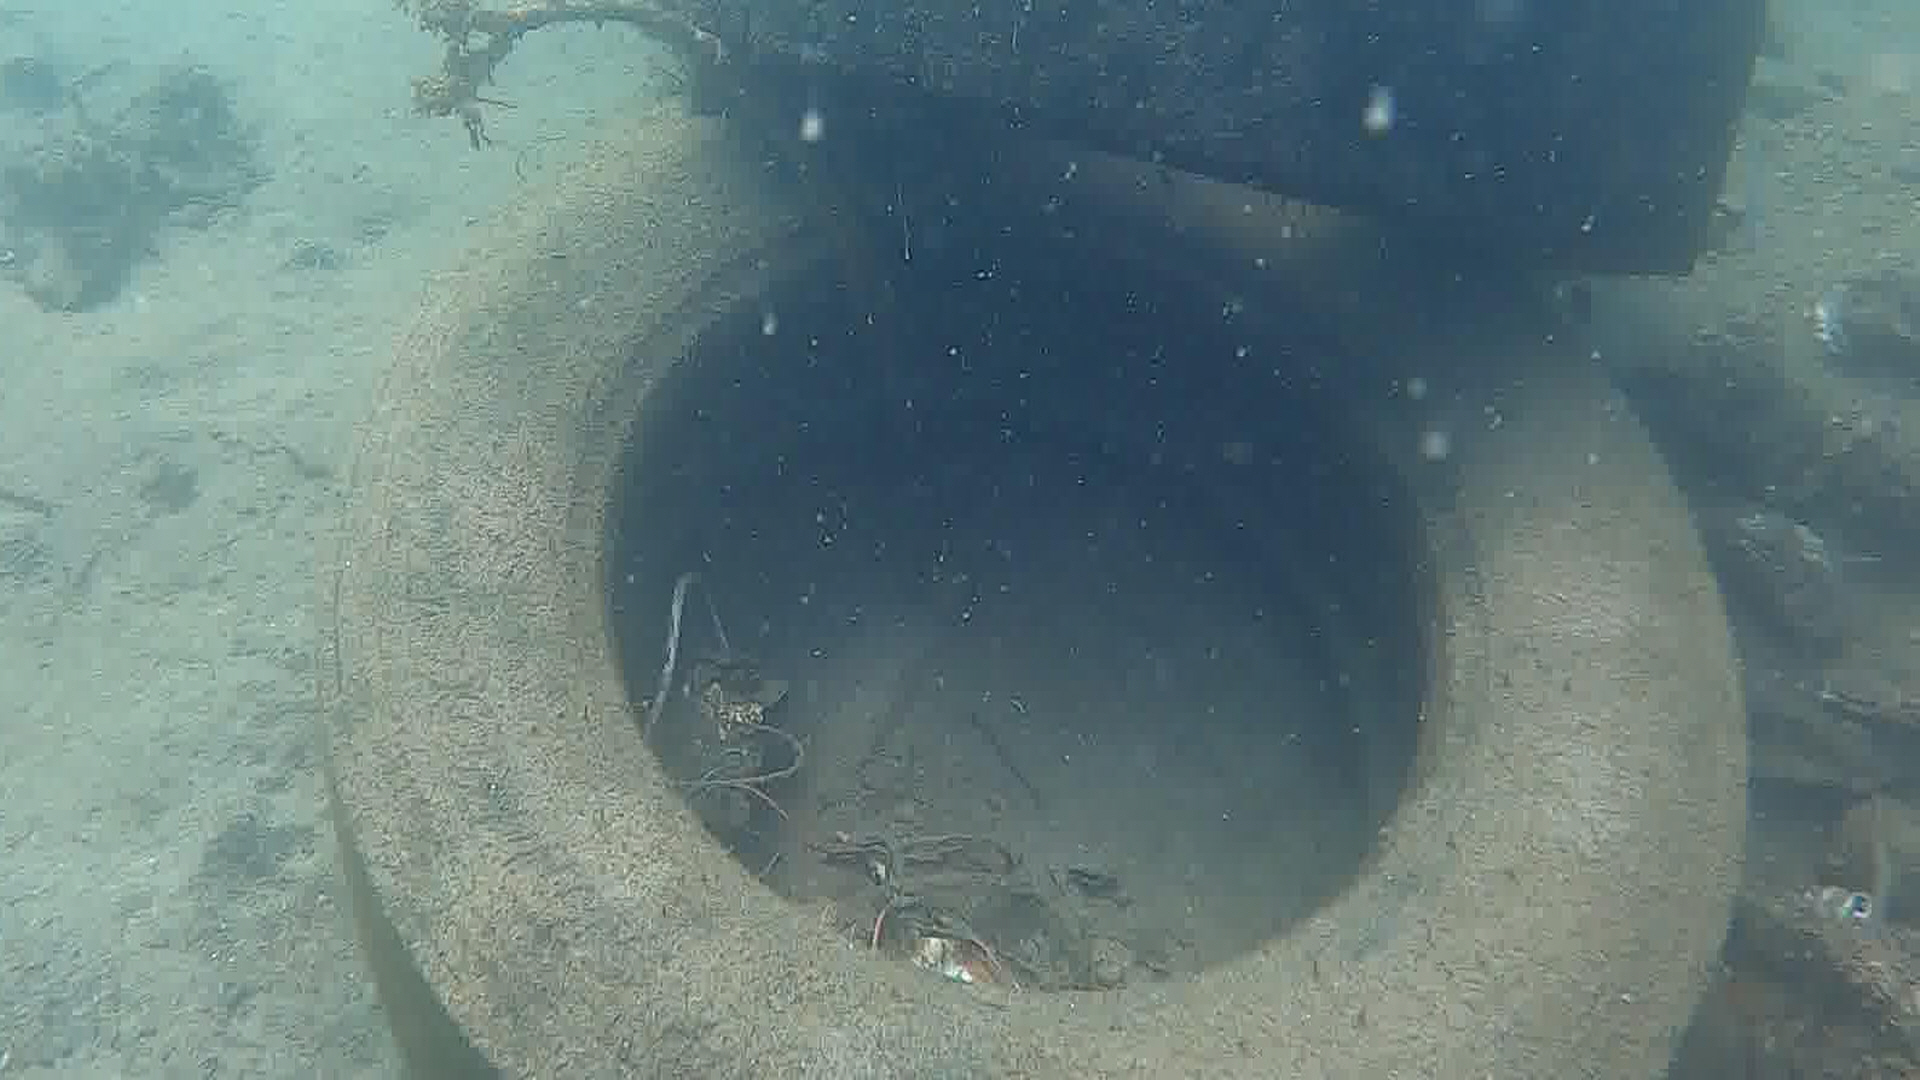tire: (315, 95, 1753, 1080)
